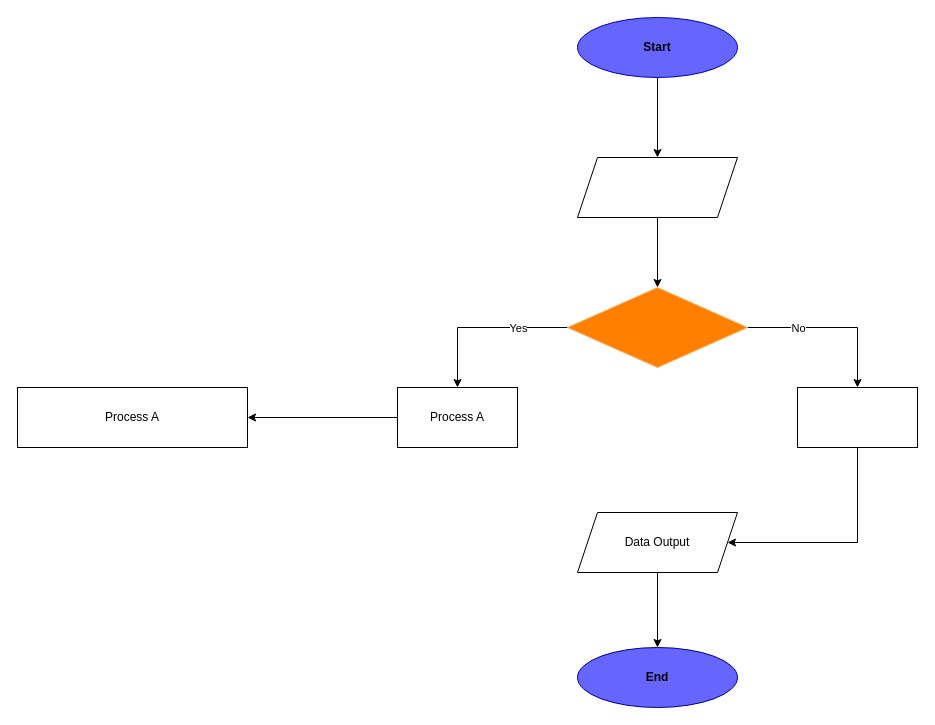
Image size: 935x725. Some labels were removed from this diagram. Here are the shapes that lost their labels. From the top down, the box of each, then its label:
(576, 156, 738, 218): Data Input
(566, 286, 748, 368): Condition
(796, 386, 918, 448): Process B
